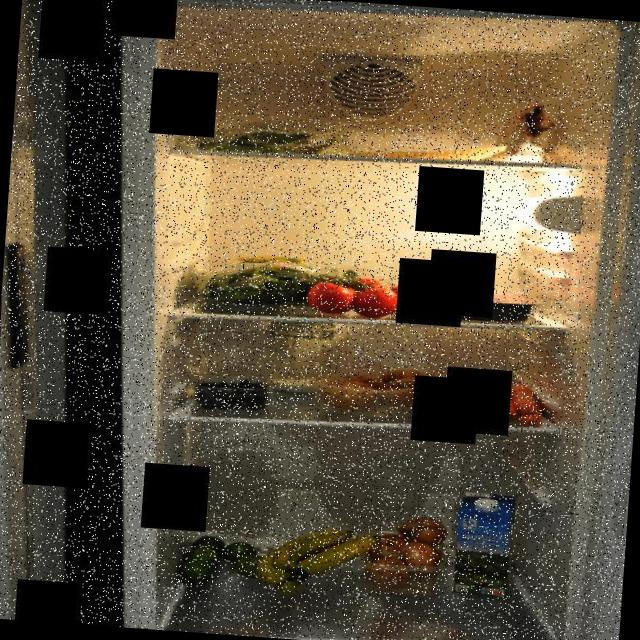Cebolla: (352, 511, 450, 598)
Leche: (445, 487, 524, 603)
Patata: (316, 358, 444, 421)
Plátano: (251, 520, 383, 604)
Tomate: (302, 269, 428, 323)
Zanahoria: (429, 373, 551, 432)
